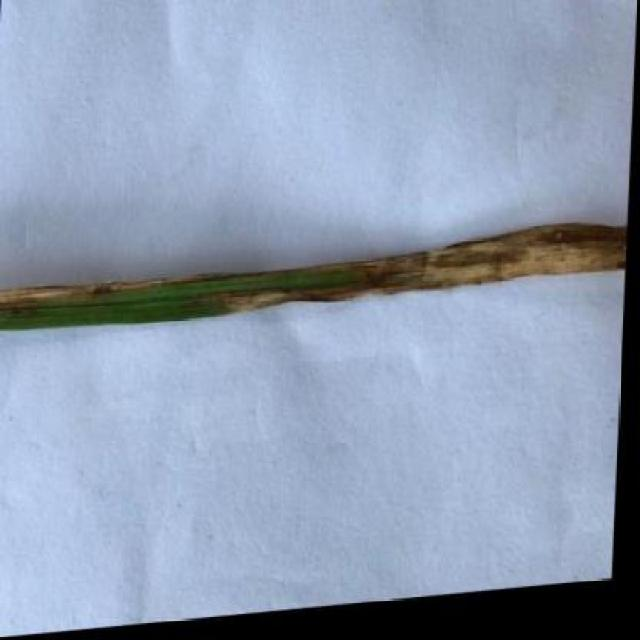Brown_Spot: (0, 223, 631, 354)
